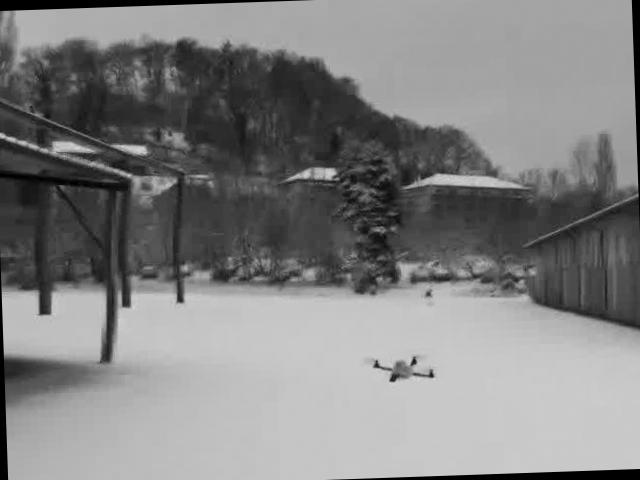drone: (367, 350, 438, 388)
